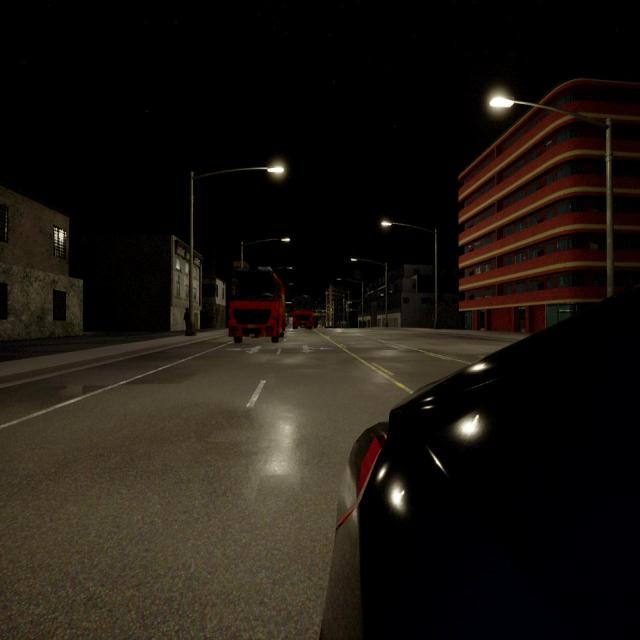Pedestrian: (184, 308, 190, 337)
Vehicle: (327, 296, 639, 638), (229, 268, 284, 343), (293, 298, 312, 329)
